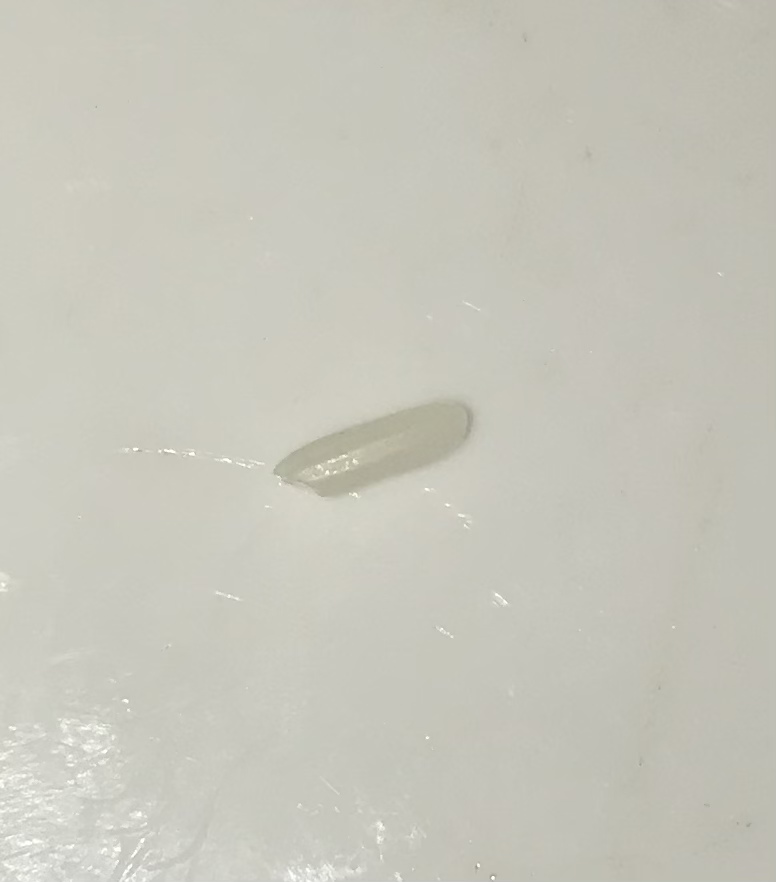Gao Ngoc Troi: (260, 392, 487, 508)
